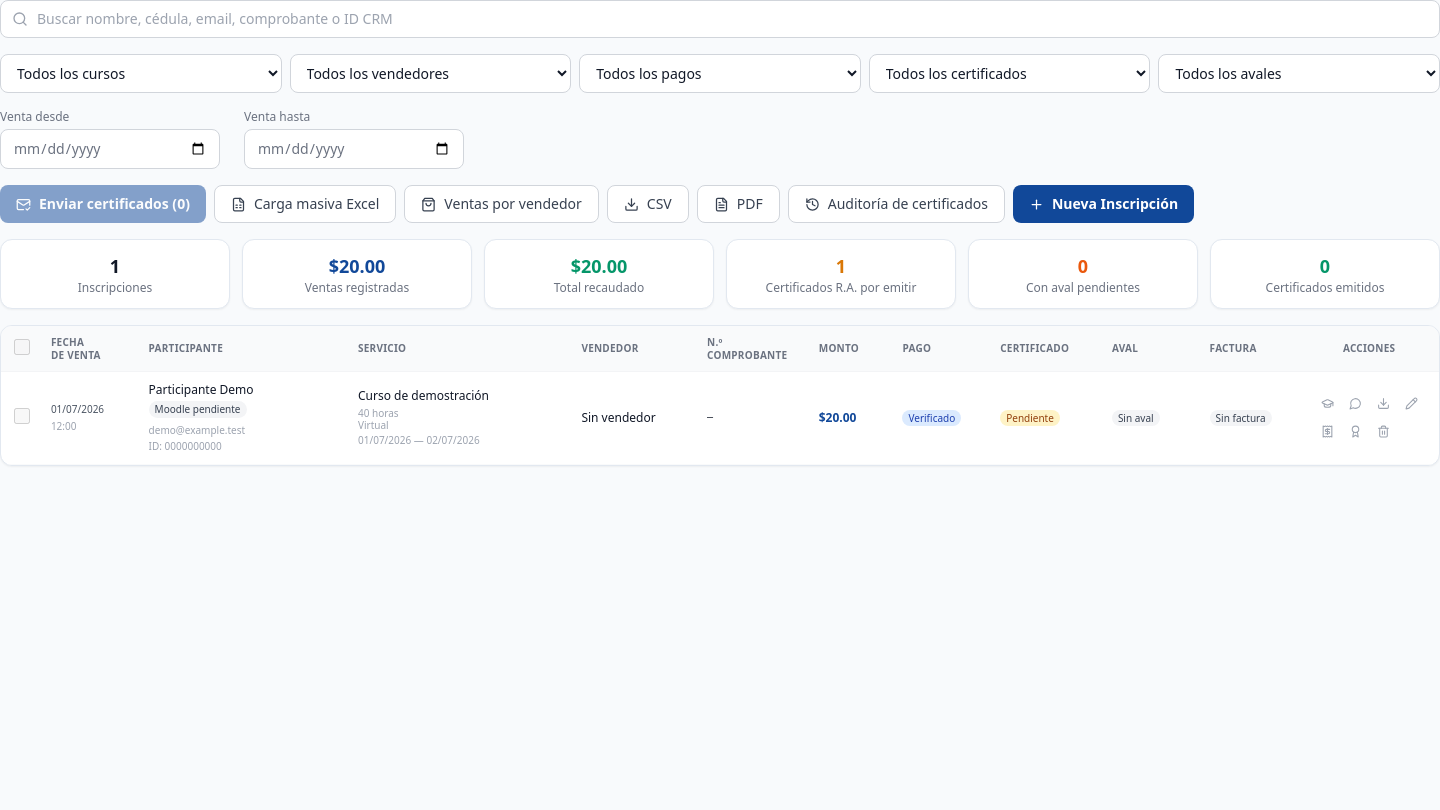
Test case: facturación desde Inscripciones — flujo de pago (sección 8/9 previas) › si falla una emisión posterior, conserva el pago verificado y permite revisar/reintentar la factura
Check: the text "Participante Demo" is shown, box [149,381,254,398]
Click the button named "Emitir factura": click(1327, 432) [1315,420,1339,444]
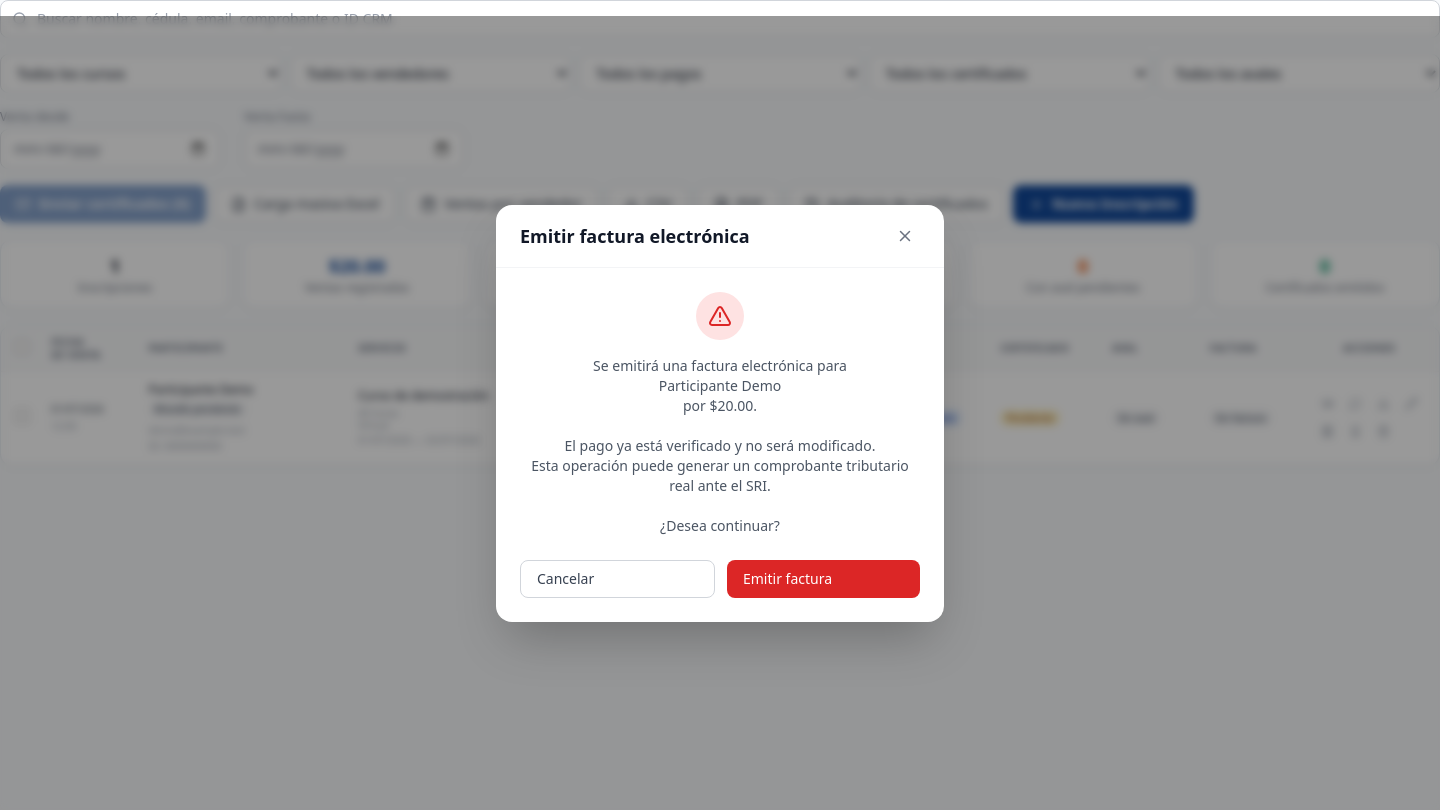
Check: the heading "Emitir factura electrónica" is shown, box [520,222,750,250]
Click the button "Emitir factura": click(824, 578) [727,560,920,598]
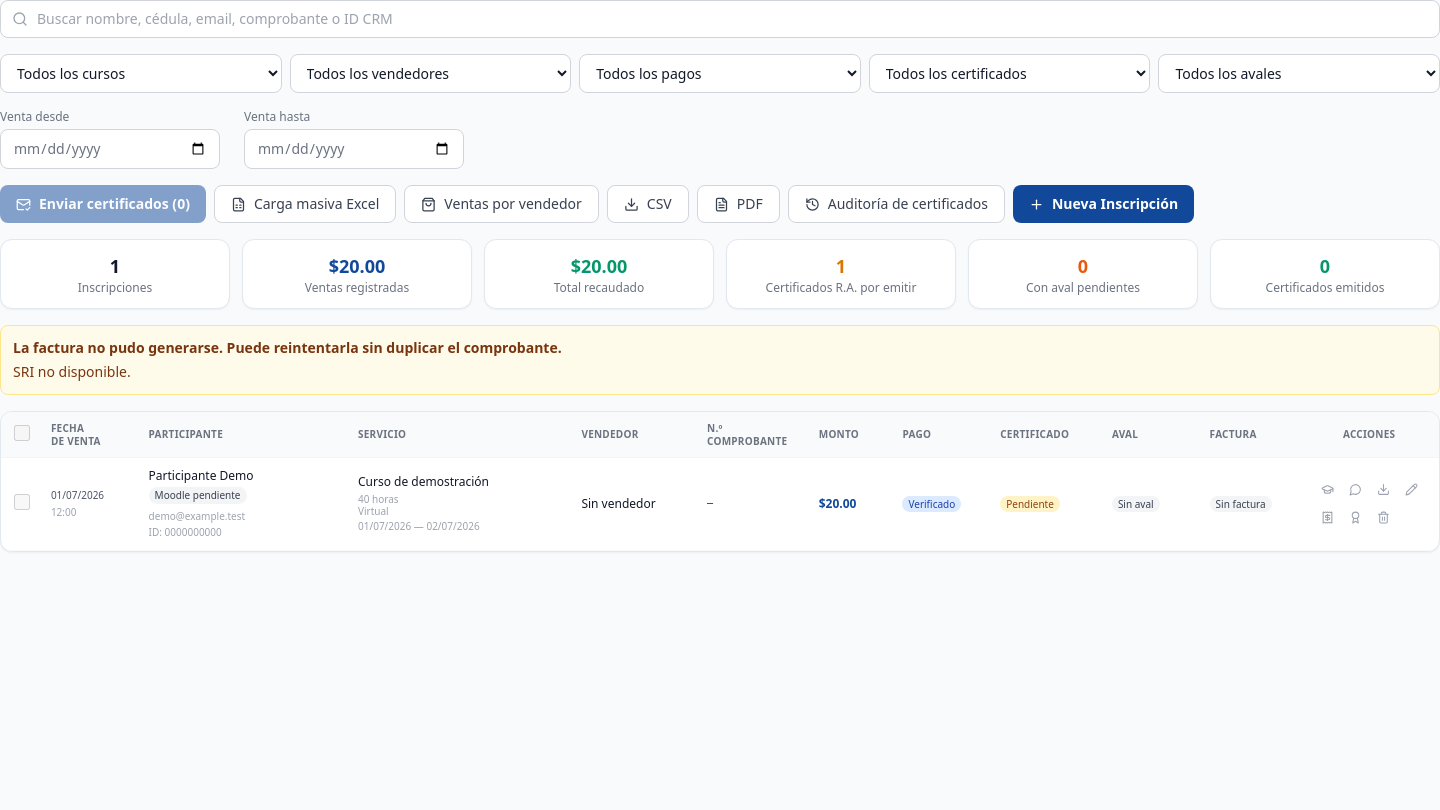
Check: the button named "Emitir factura" is shown, box [1315,506,1339,530]
Check: the text "La factura no pudo generarse. Puede reintentarla sin duplicar el comprobante." is shown, box [13,338,562,357]
Check: the text "SRI no disponible." is shown, box [13,362,131,381]
